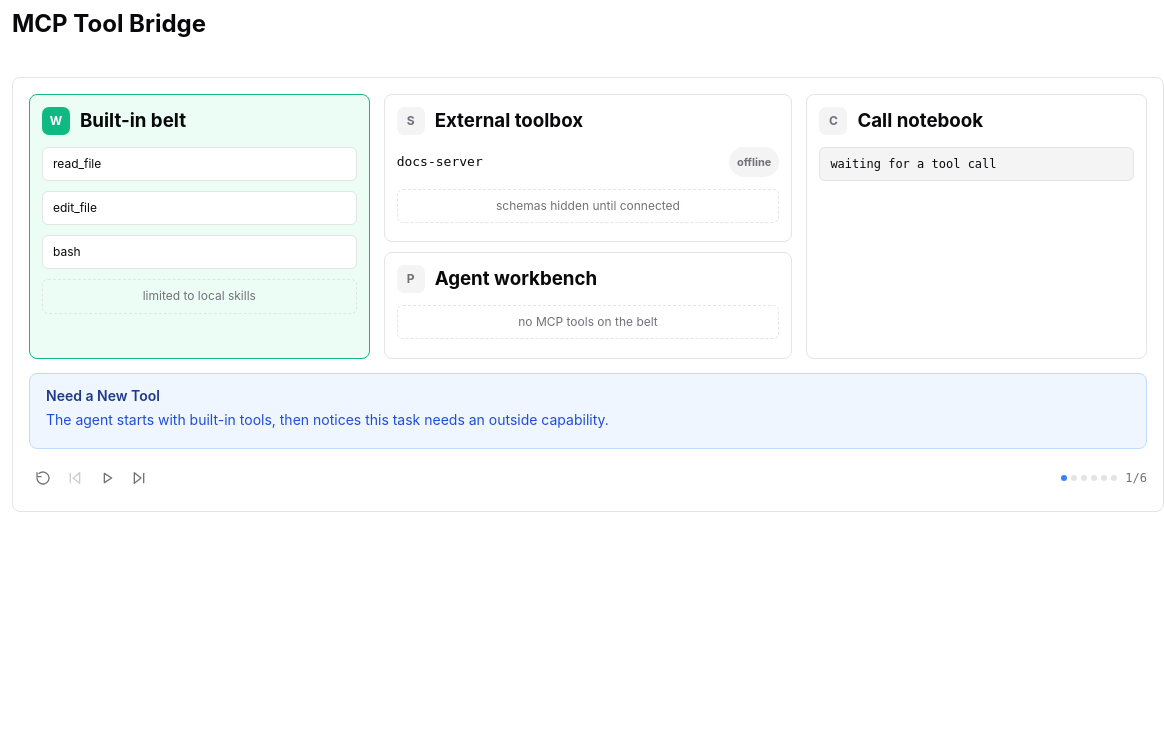
S19McpTools › shows MCP tools moving from an external server onto the agent tool belt
Click the button titled "Next step".
click(139, 478)  # box [125,464,153,492]
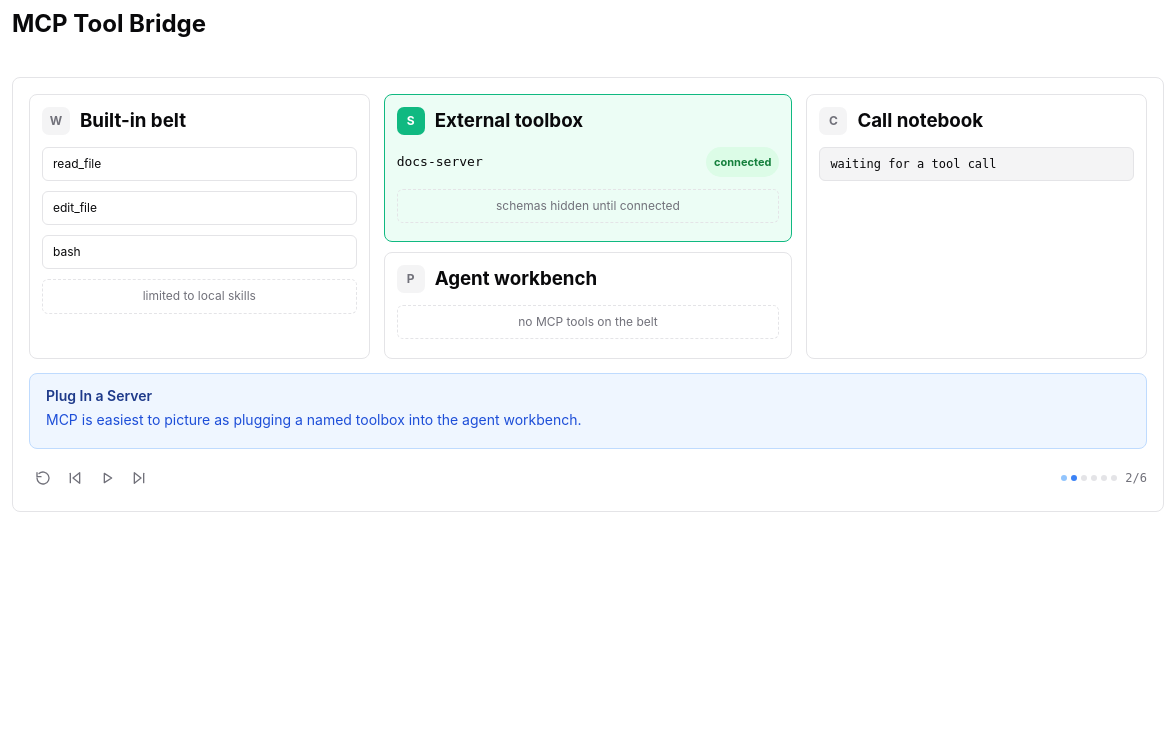
Expected: the text "connected" is shown, [706,147,779,177]
Click the button titled "Next step".
click(139, 478)  # box [125,464,153,492]
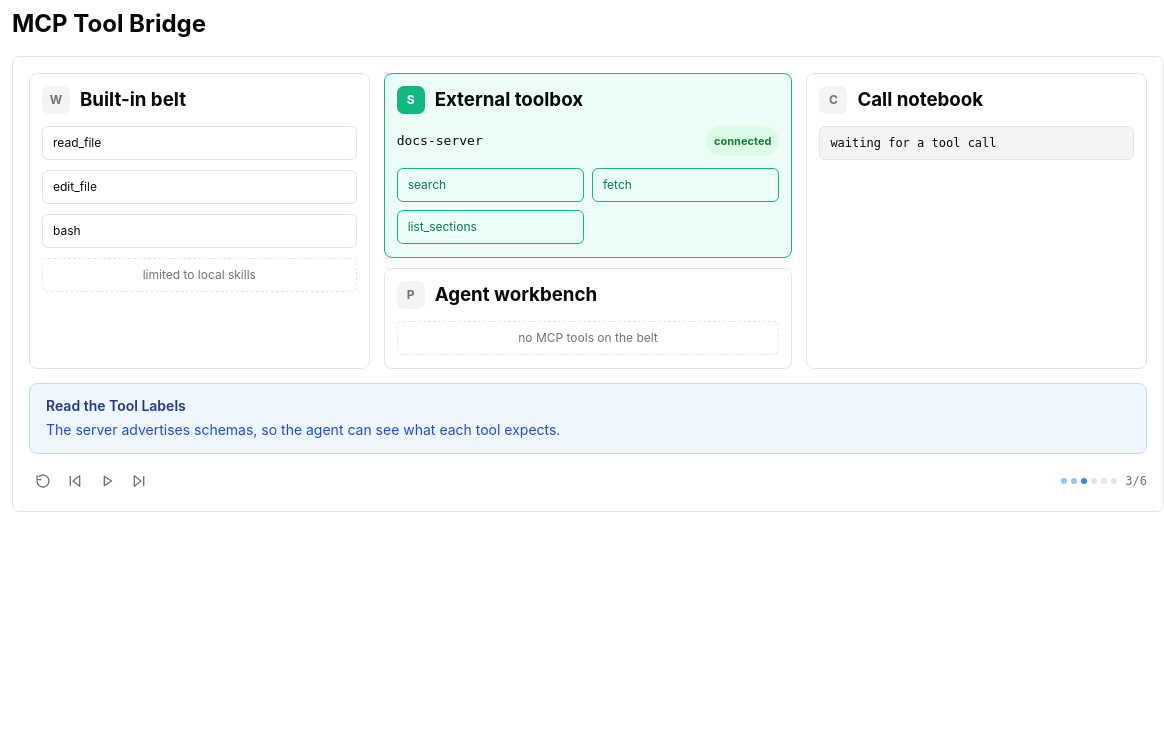
Result: the text "search" is shown at [397,168,584,202]
Result: the text "fetch" is shown at [592,168,779,202]
Click the button titled "Next step".
click(139, 480)  # box [125,466,153,494]
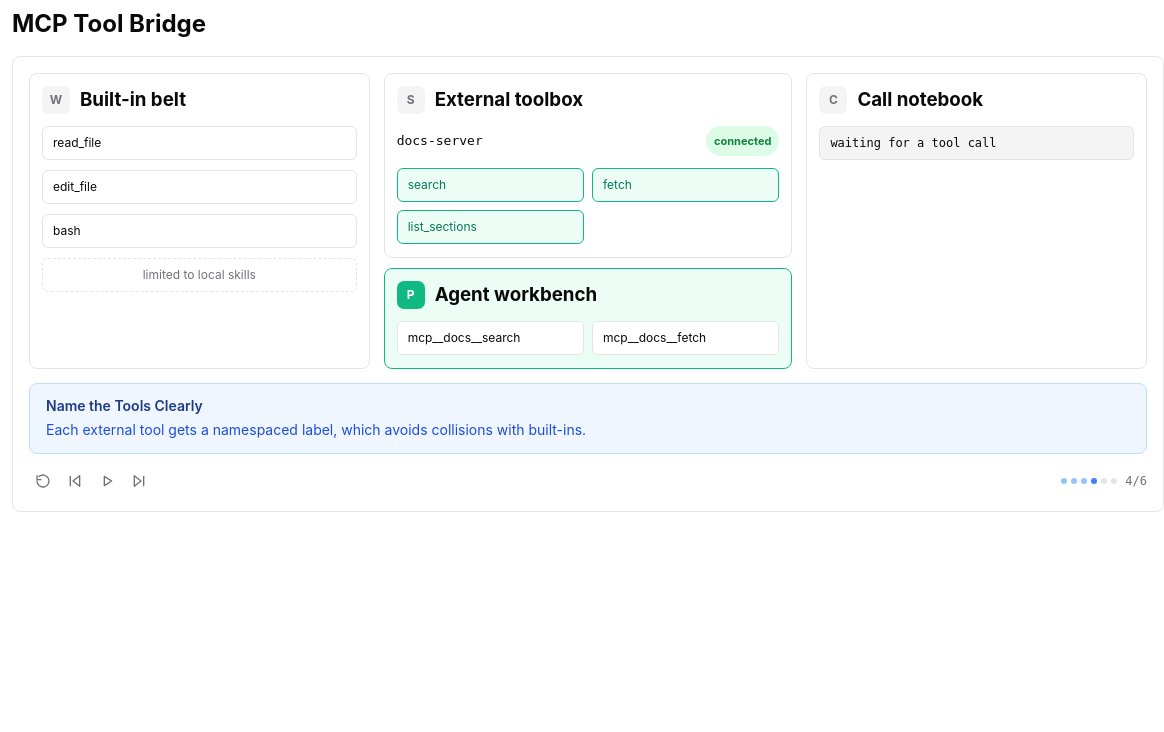
Result: the text "mcp__docs__search" is shown at [397,321,584,355]
Click the button titled "Next step".
click(139, 480)  # box [125,466,153,494]
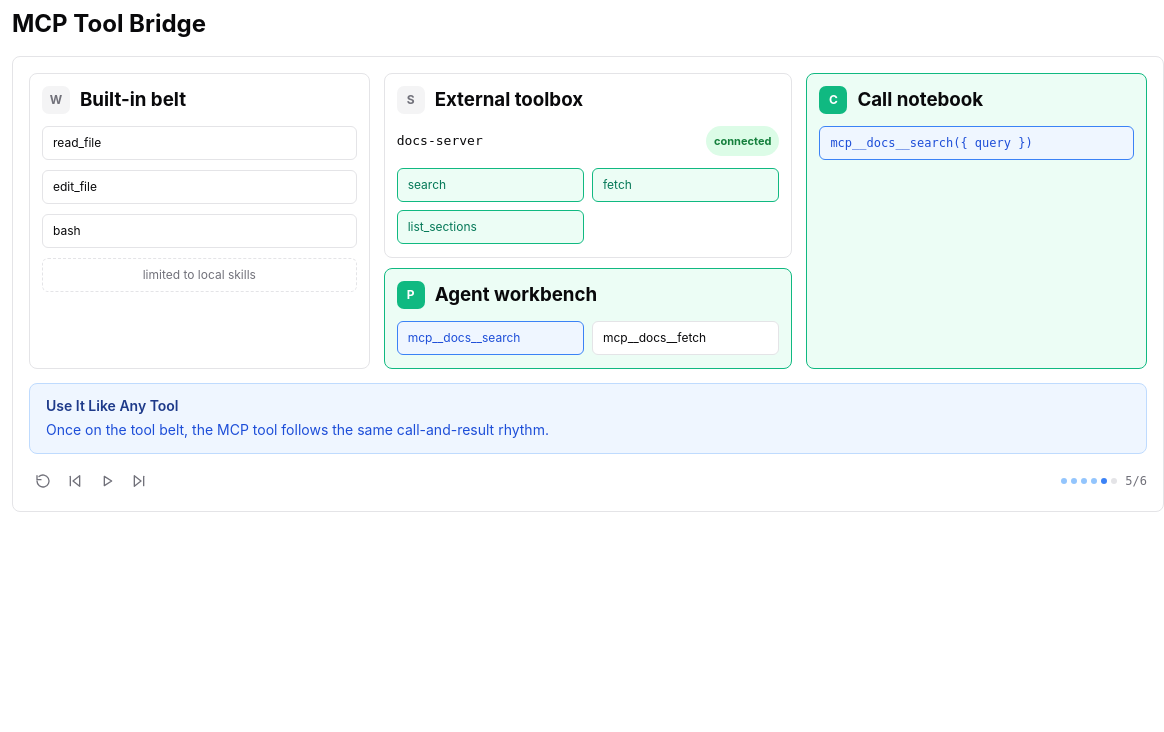
Result: the text "mcp__docs__search({ query })" is shown at [819,126,1134,160]
Click the button titled "Next step".
click(139, 480)  # box [125,466,153,494]
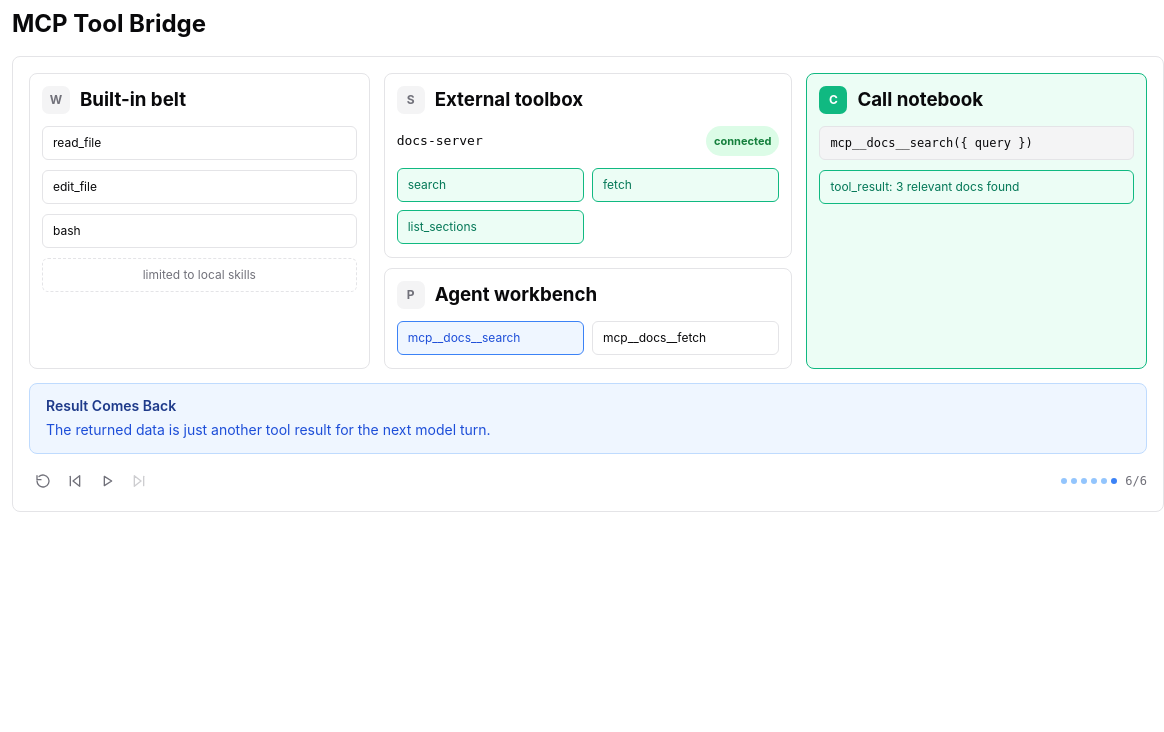
Result: the text "tool_result: 3 relevant docs found" is shown at [819,170,1134,204]
